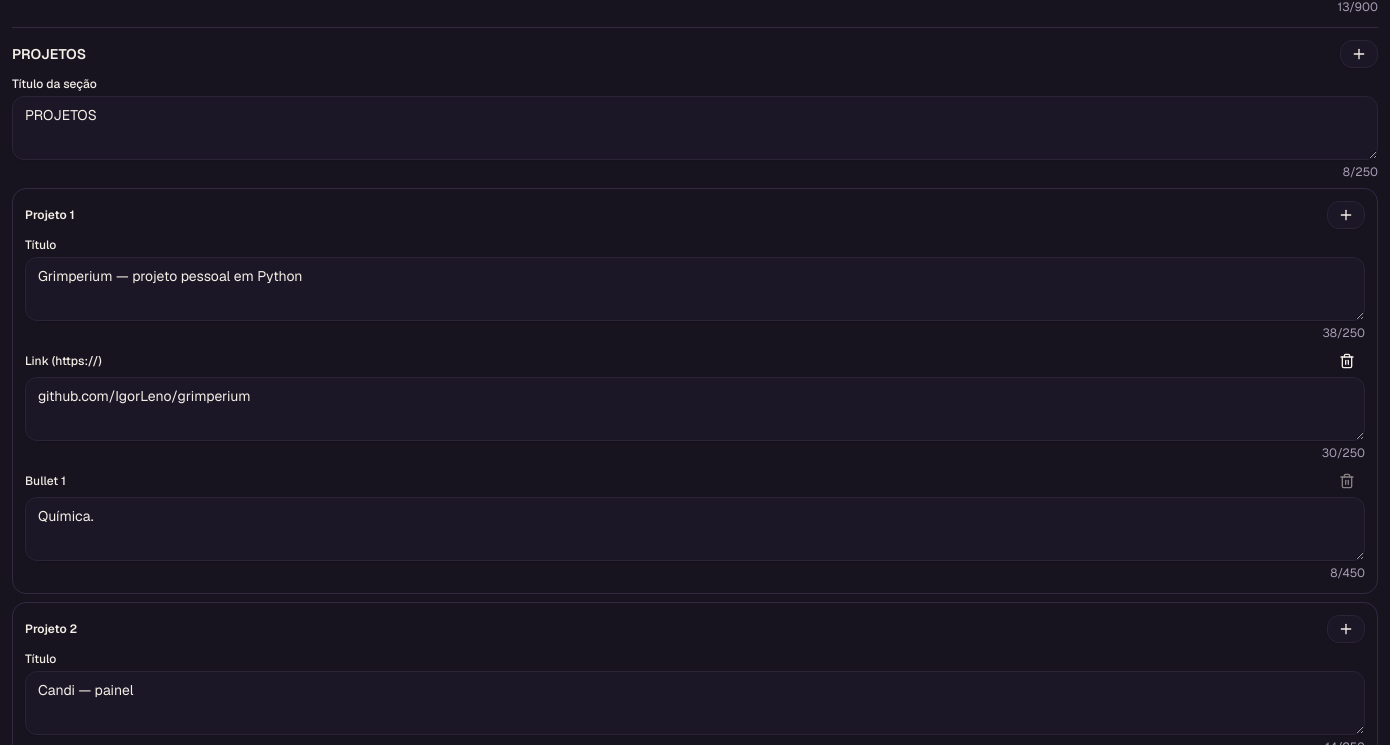
Test case: CvManualEditor › removes a bullet only while another one stays
(page scrolled)
Expected: the element with test id "cv-manual-projects-1" is shown, [12, 188, 1378, 594]
Expected: the button with test id "cv-manual-projects-1-remove-bullet-1" is disabled, [1329, 469, 1365, 493]
Step 1. Click the button with test id "cv-manual-projects-1-remove-link" → (1347, 361), box [1329, 349, 1365, 373]
(page scrolled)
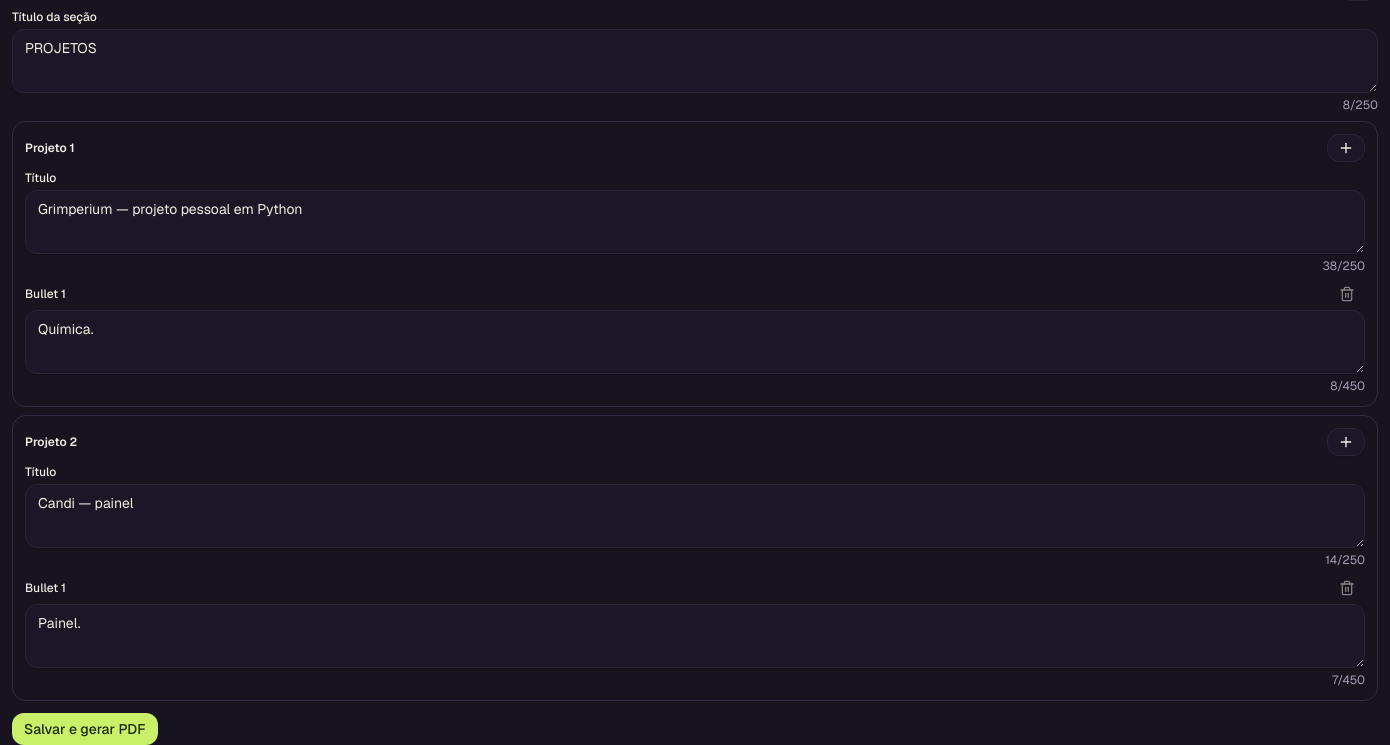
Now the text box with test id "cv-manual-projects-1-link" is gone
Now the button with test id "cv-manual-submit" is enabled, box [12, 713, 158, 744]
